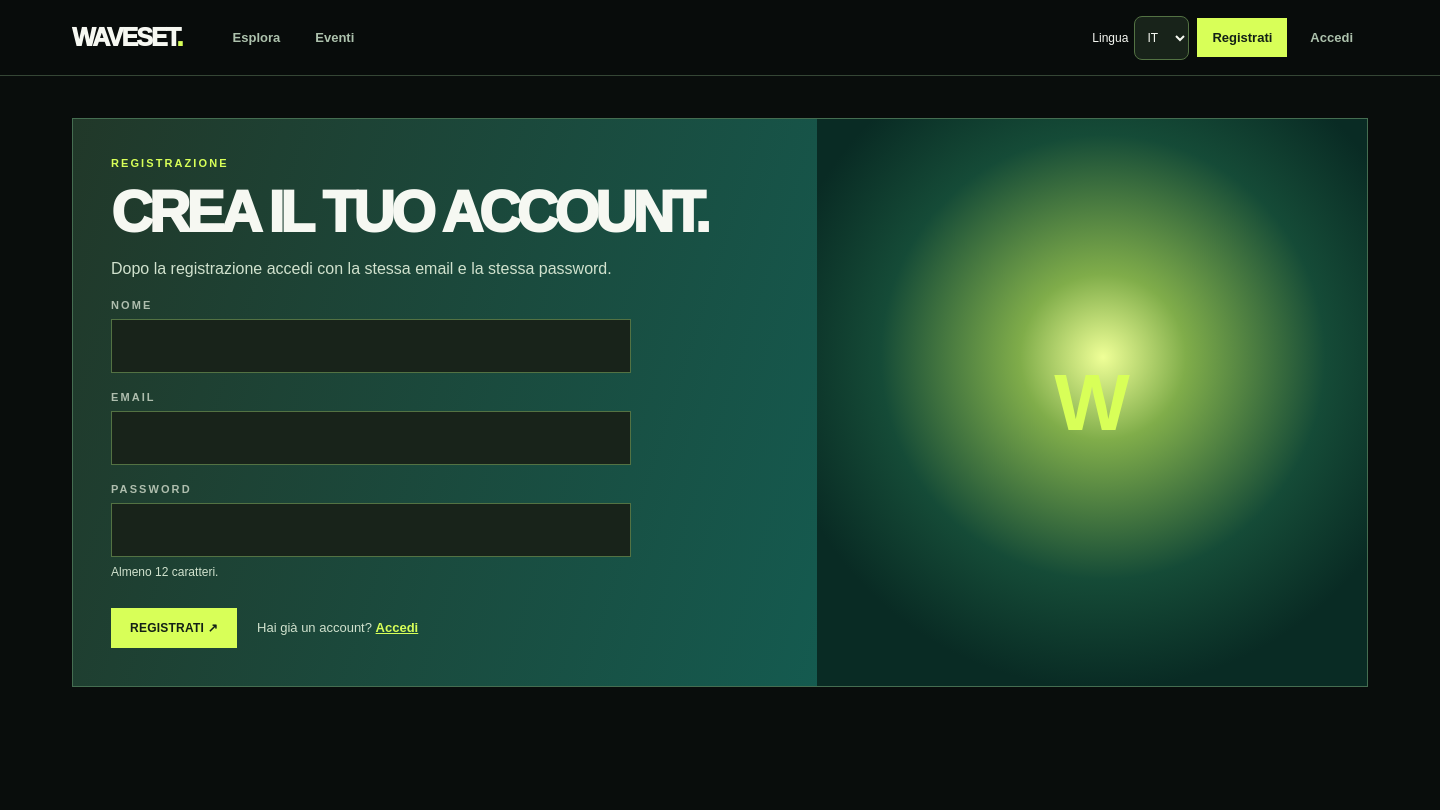
schermata di registrazione › campi vuoti: errori per campo e nessuna chiamata
The width and height of the screenshot is (1440, 810).
Check: the heading "Crea il tuo account." is shown, box [111,184,779,242]
Click the button "Registrati ↗" at {"x": 174, "y": 628}, box [111,608,237,648]
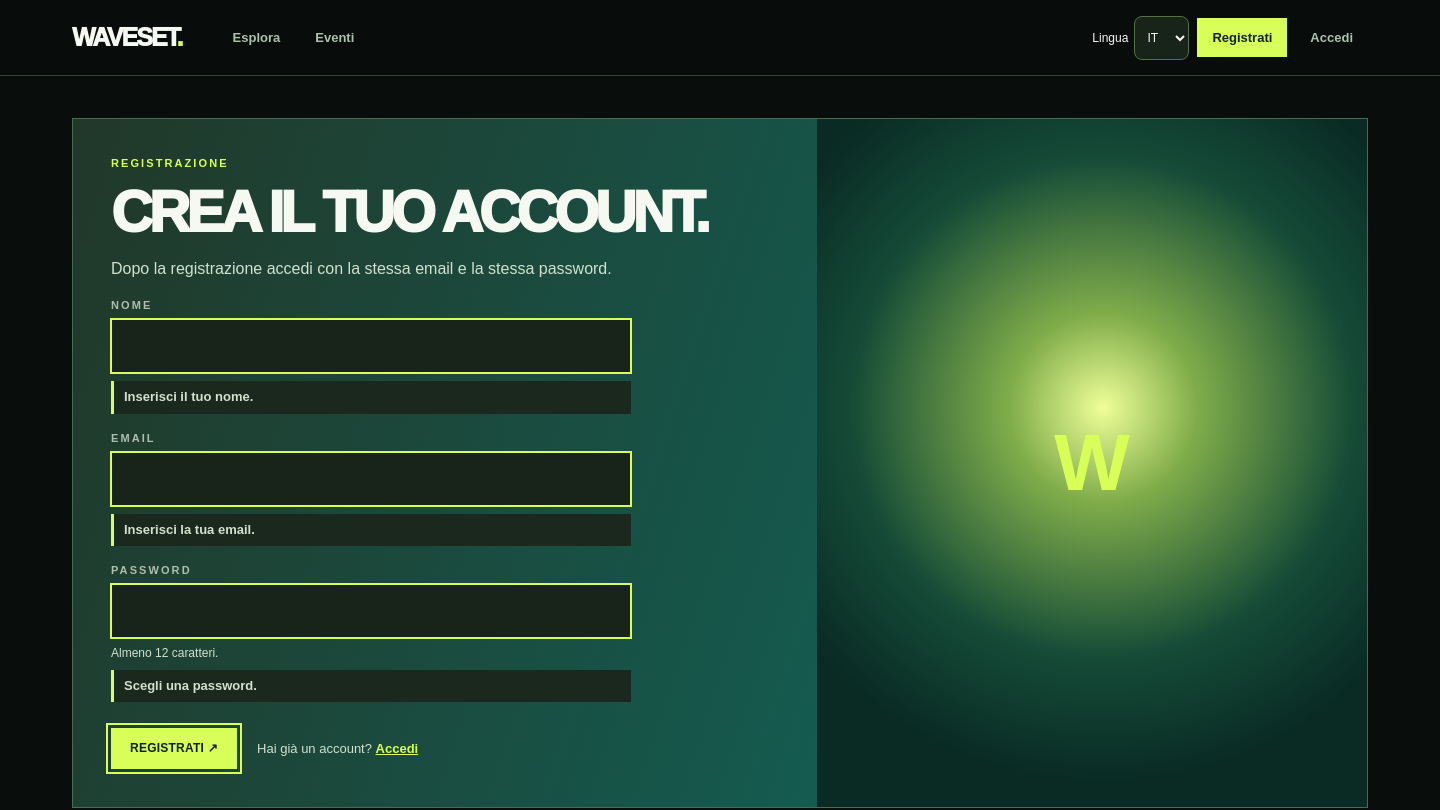
Check: the text "Inserisci il tuo nome." is shown, box [111,381,631,414]
Check: the text "Inserisci la tua email." is shown, box [111,514,631,546]
Check: the text "Scegli una password." is shown, box [111,670,631,702]
